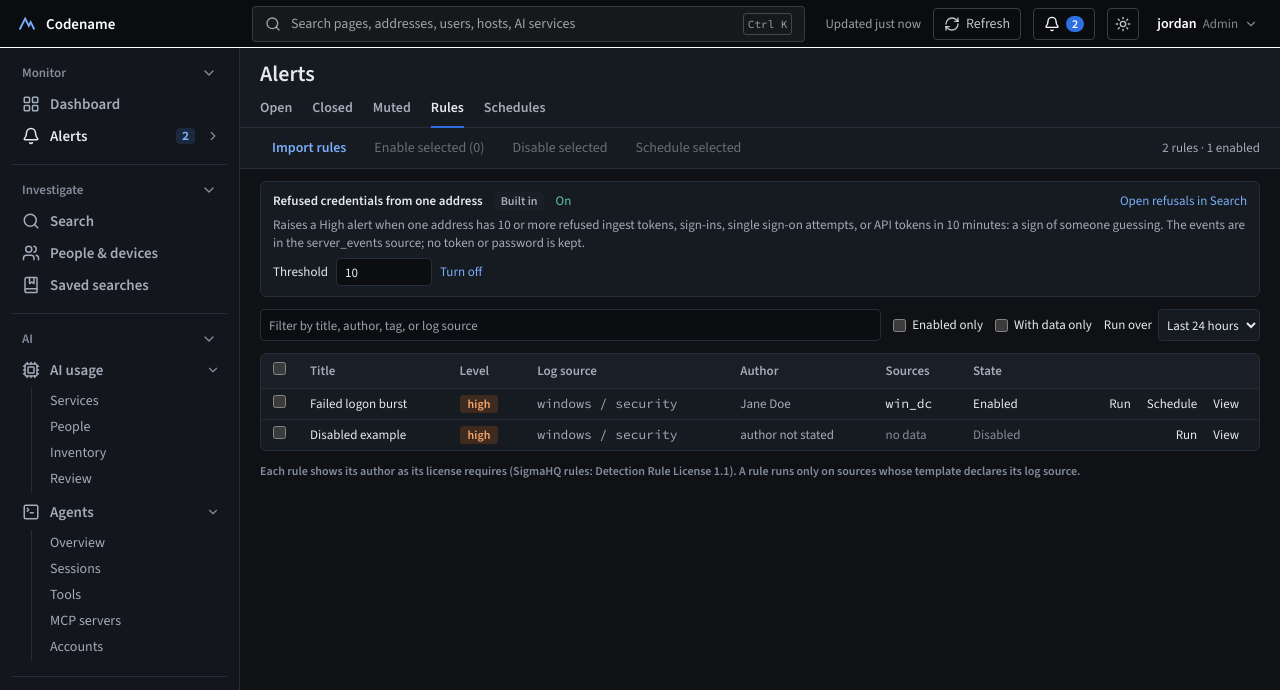
Test: Detection rules › schedules an enabled rule from its row
Click the button with aria-label "Schedule Failed logon burst" at (1172, 404), box x1=1139 y1=393 x2=1205 y2=415
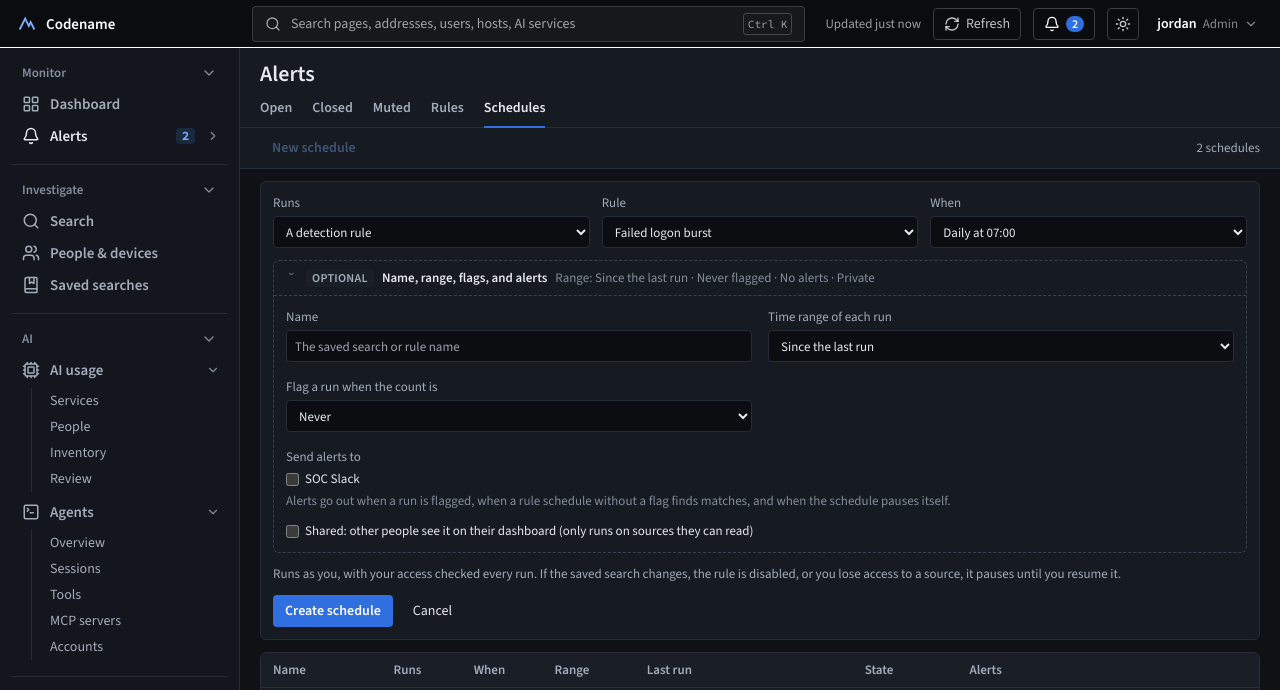
Expected: the dropdown labelled "Runs" shows "A detection rule", x1=273 y1=216 x2=590 y2=248
Expected: the dropdown labelled "Rule" shows "Failed logon burst", x1=602 y1=216 x2=918 y2=248
